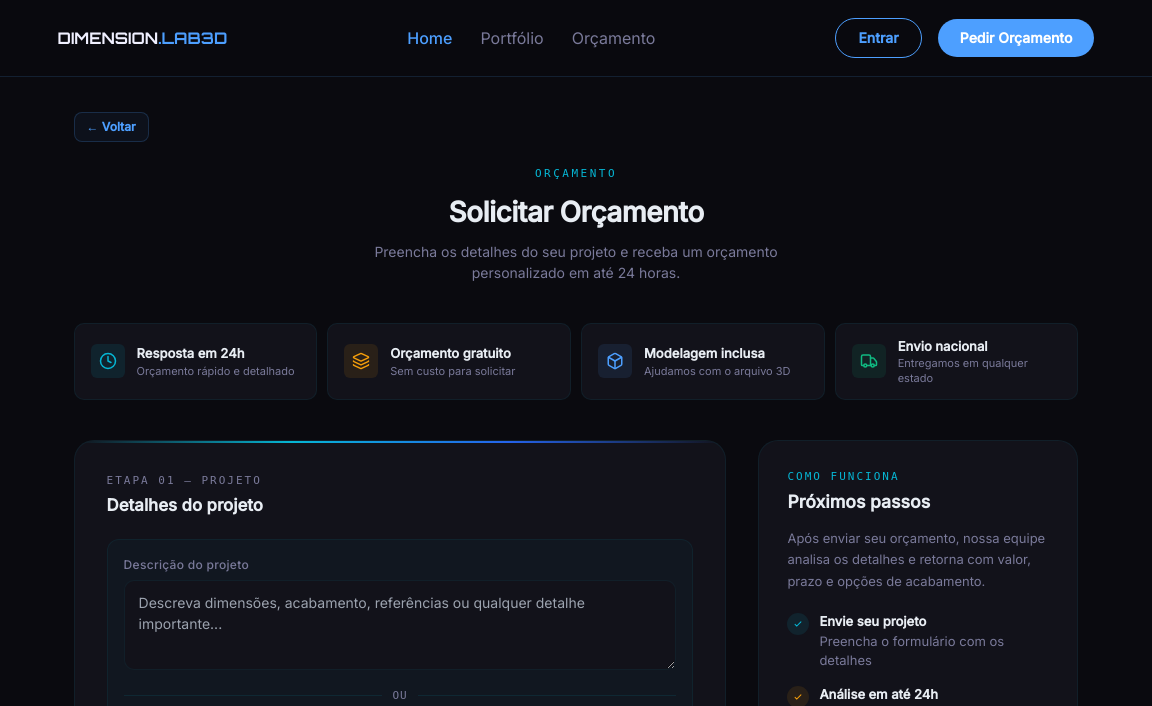
Test: QuoteRequest page › shows success message after successful submit
Type "A valid description here" into the text box labelled "Descrição do projeto".
click(400, 625); type("A valid description here")  # box [124, 580, 676, 670]
(page scrolled)
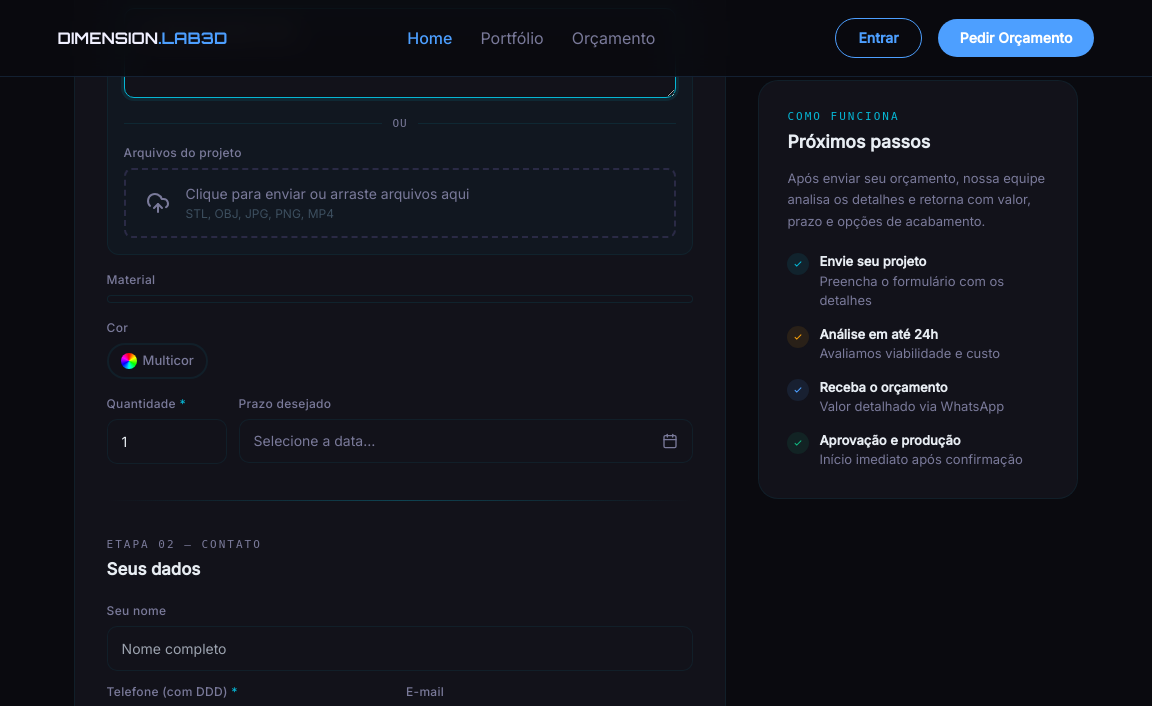
Click the button "Multicor".
click(157, 361)  # box [107, 343, 208, 379]
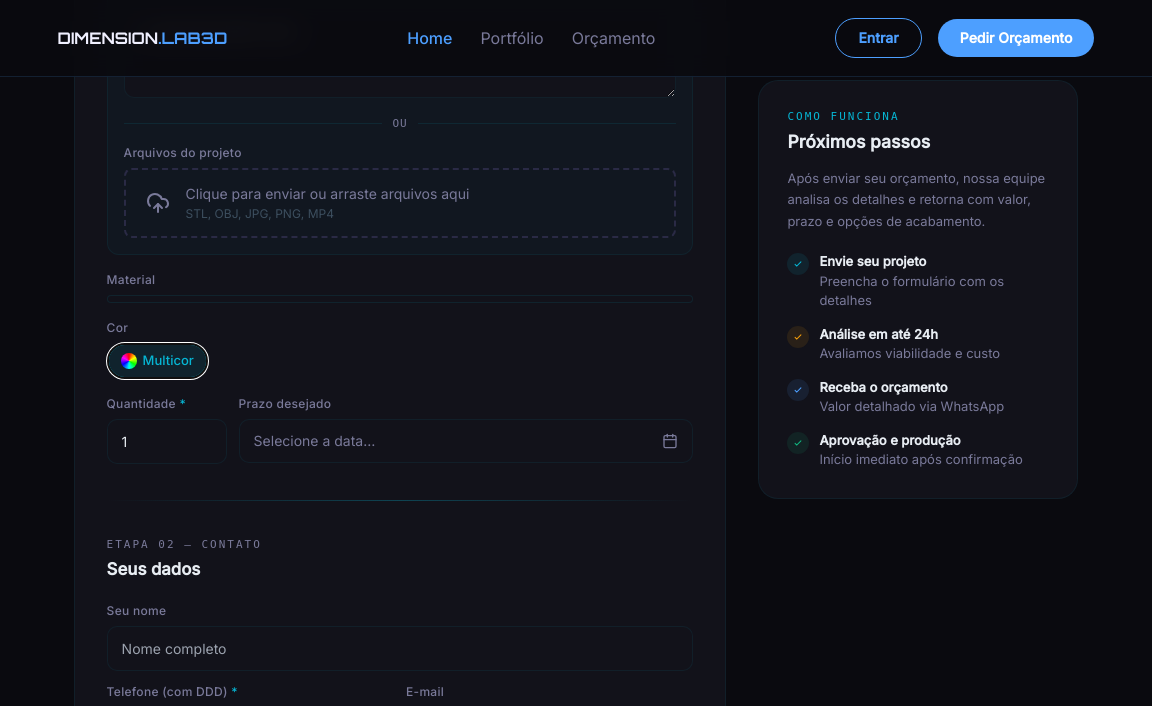
Type "Test User" into the field labelled "Seu nome".
click(400, 649); type("Test User")  # box [107, 626, 693, 671]
(page scrolled)
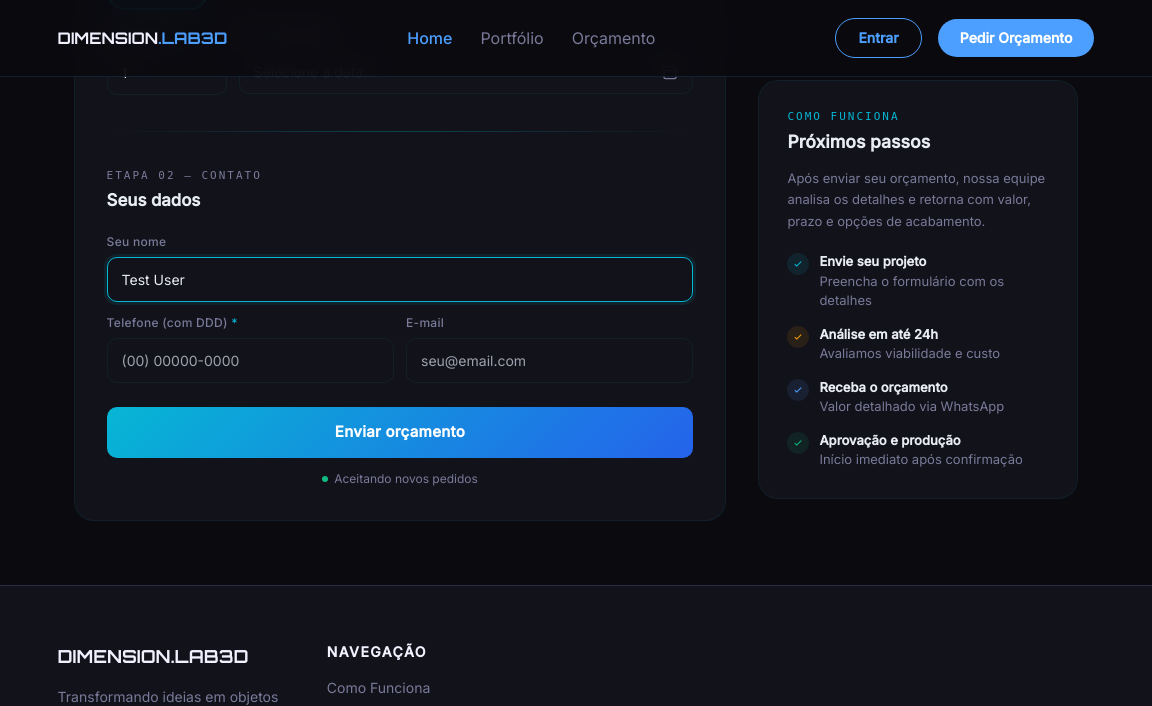
Type "test@test.com" into the field labelled "E-mail".
click(550, 361); type("test@test.com")  # box [406, 338, 693, 383]
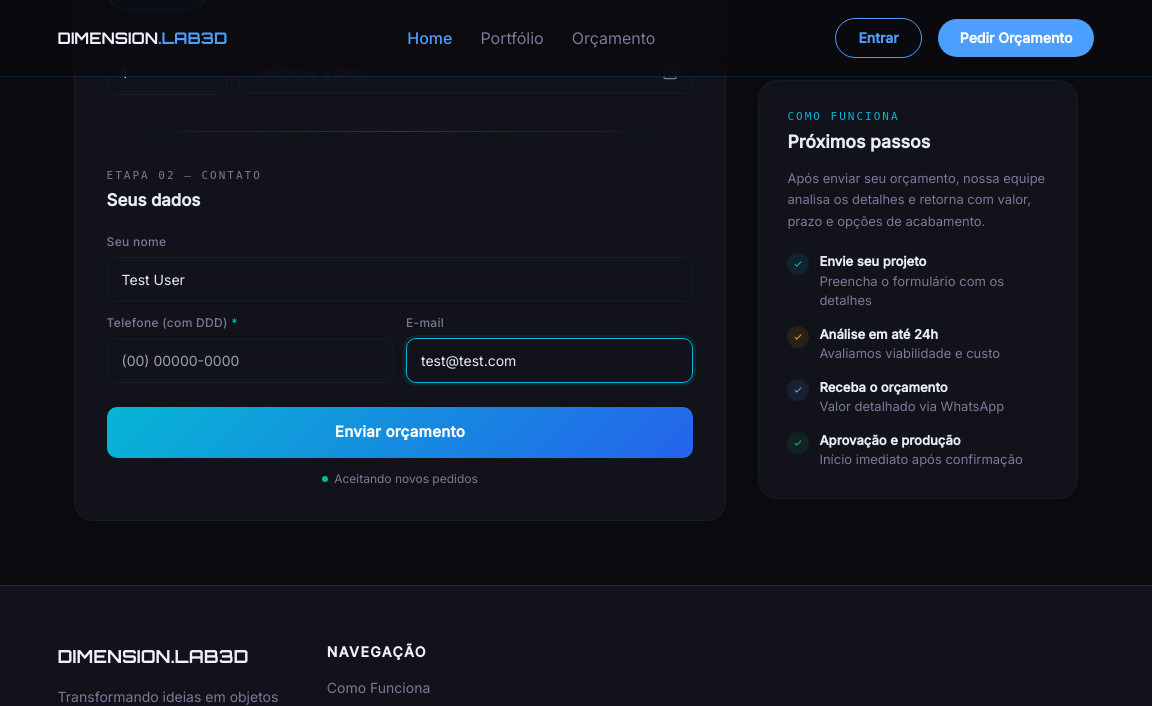
Type "(11) 99999-9999" into the field labelled "Telefone (com DDD) *".
click(250, 361); type("(11) 99999-9999")  # box [107, 338, 394, 383]
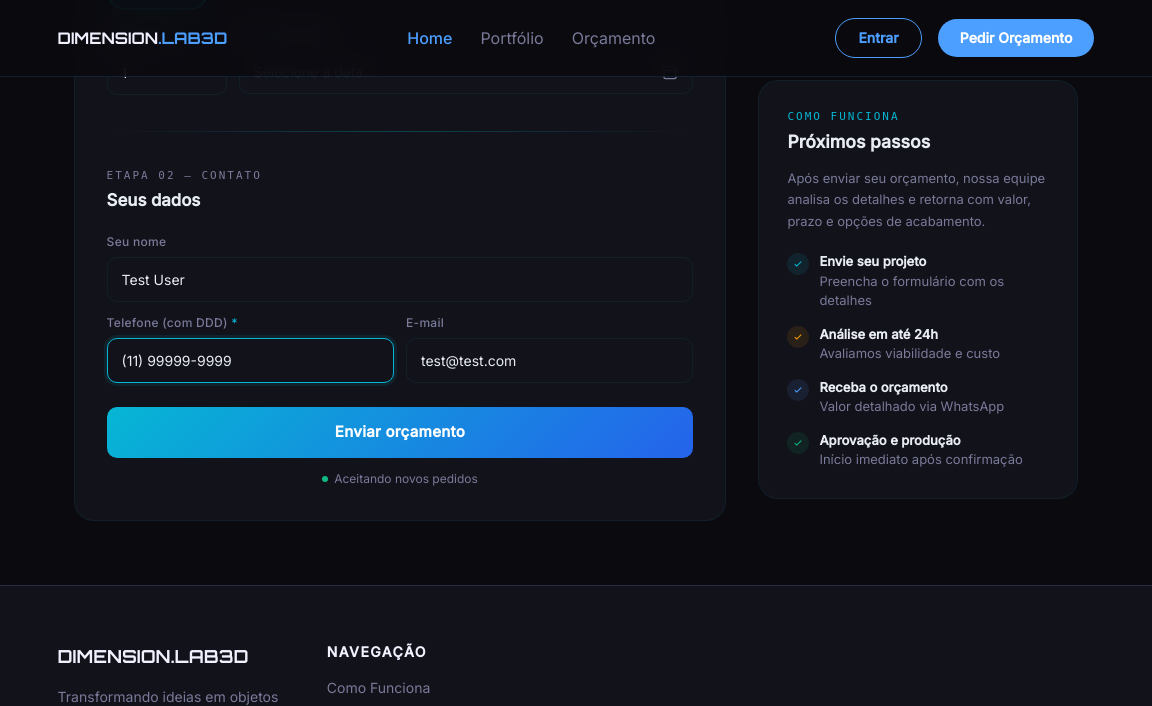
Click the button "Enviar orçamento".
click(400, 433)  # box [107, 407, 693, 458]
(page scrolled)
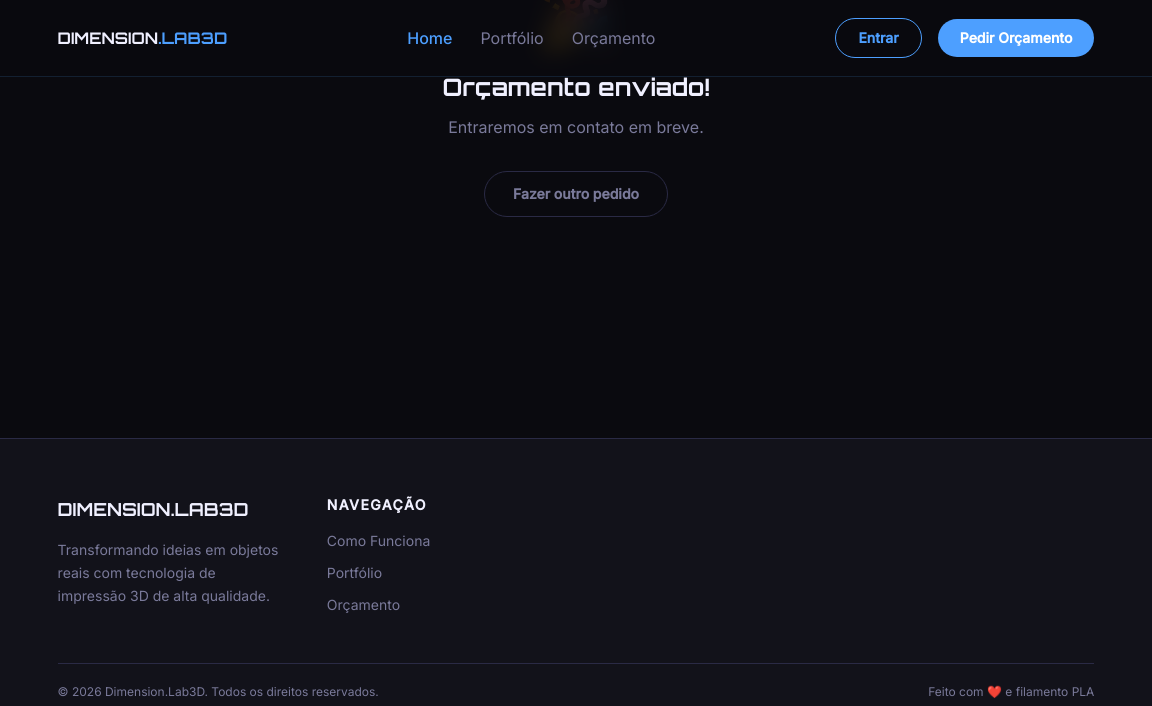
Check: the heading "Orçamento enviado!" is shown, box [442, 71, 710, 103]
Check: the text "Entraremos em contato em breve." is shown, box [442, 115, 710, 139]
